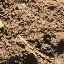Purslane: (0, 0, 29, 37)
